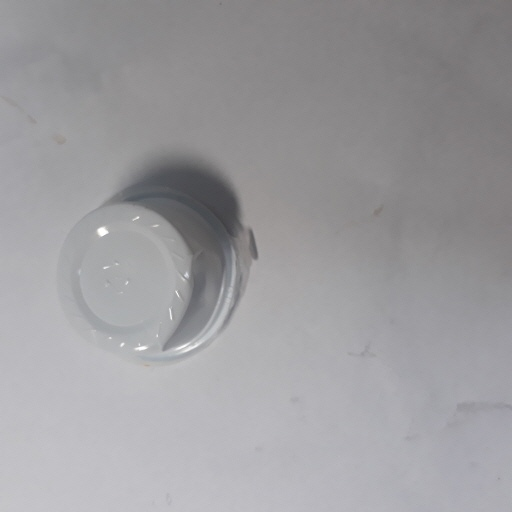Plastic_5: (53, 184, 257, 364)
